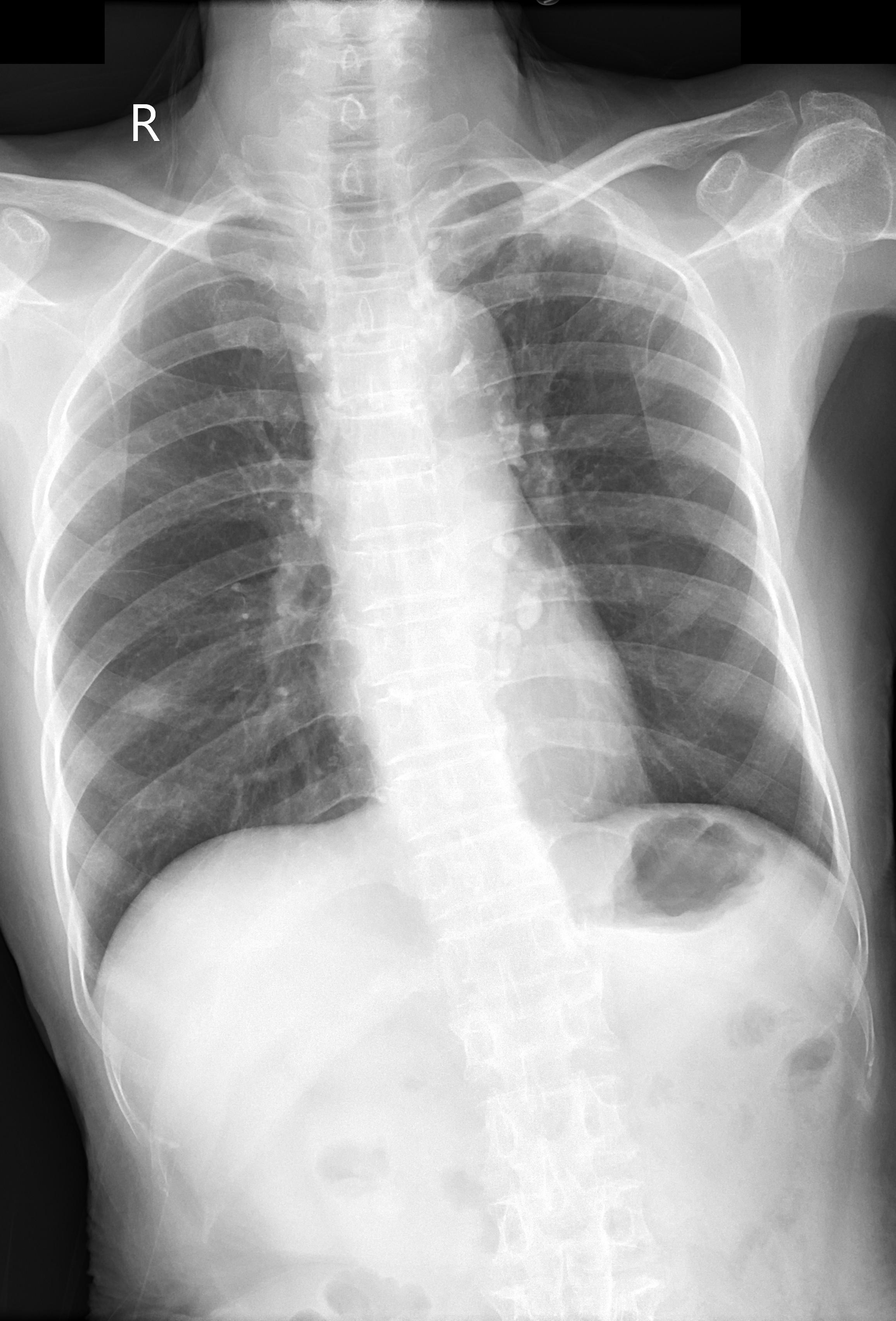Aortic enlargement: (369, 291, 520, 435)
Pulmonary fibrosis: (121, 681, 172, 723)
